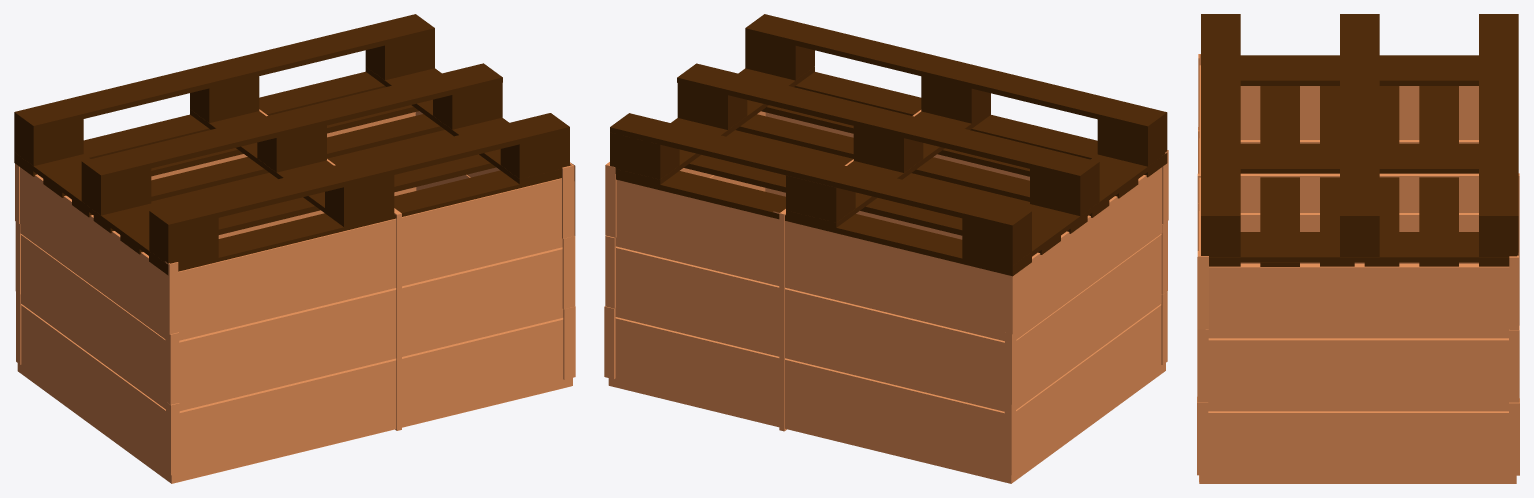
The model's file is doazespiegelt.gltf.
3 renders of one model, left to right at view 1: azimuth 30°, elevation 25°; view 2: azimuth 150°, elevation 25°; view 3: azimuth 270°, elevation 25°, orthographic. The views are drawn at different scales.
Parts seen in each view (by area): view 1: palletkrat_006_palletkrat_006Mesh, europallet_006_europallet_006Mesh; view 2: palletkrat_006_palletkrat_006Mesh, europallet_006_europallet_006Mesh; view 3: palletkrat_006_palletkrat_006Mesh, europallet_006_europallet_006Mesh.
Part boxes in pixels (<box>): palletkrat_006_palletkrat_006Mesh: <box>15,109,575,483</box>; europallet_006_europallet_006Mesh: <box>14,14,569,275</box>; palletkrat_006_palletkrat_006Mesh: <box>604,110,1168,483</box>; europallet_006_europallet_006Mesh: <box>610,14,1167,276</box>; palletkrat_006_palletkrat_006Mesh: <box>1197,54,1519,483</box>; europallet_006_europallet_006Mesh: <box>1201,14,1518,266</box>.
Size of the model in its own units: 1.22 by 0.7456 by 0.8131.
